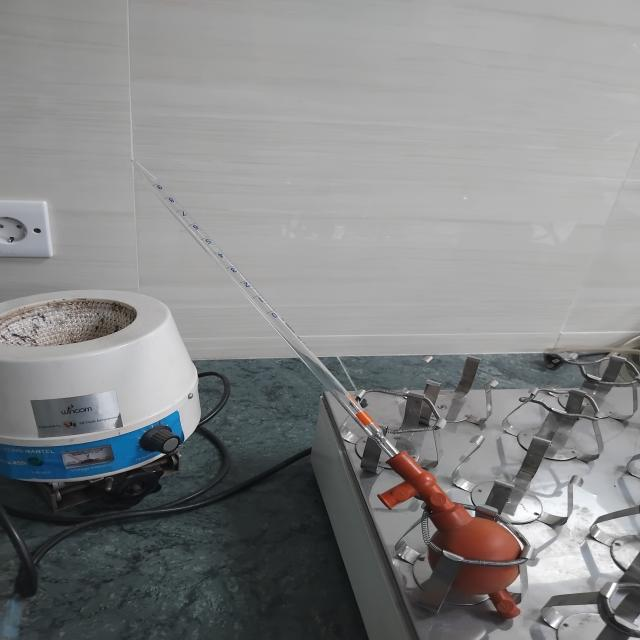Volumetric_Pipet: (99, 125, 566, 640)
